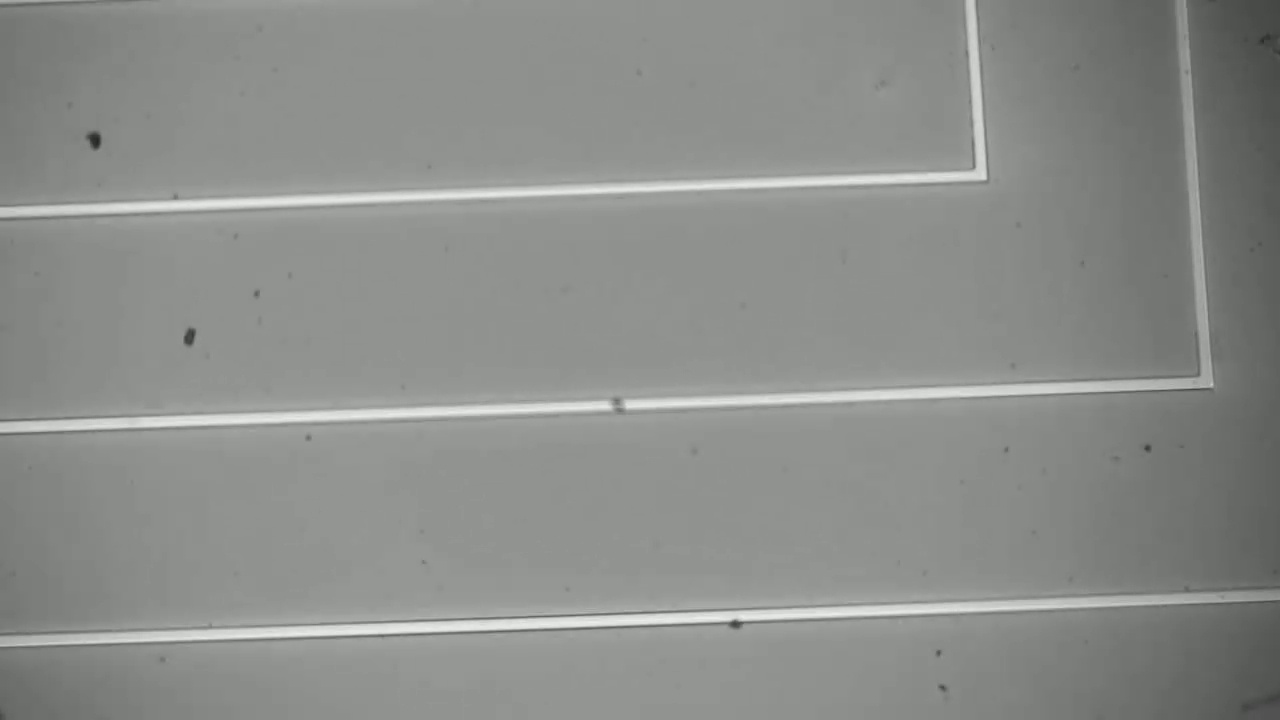stains_enbedded: (605, 390, 629, 419)
